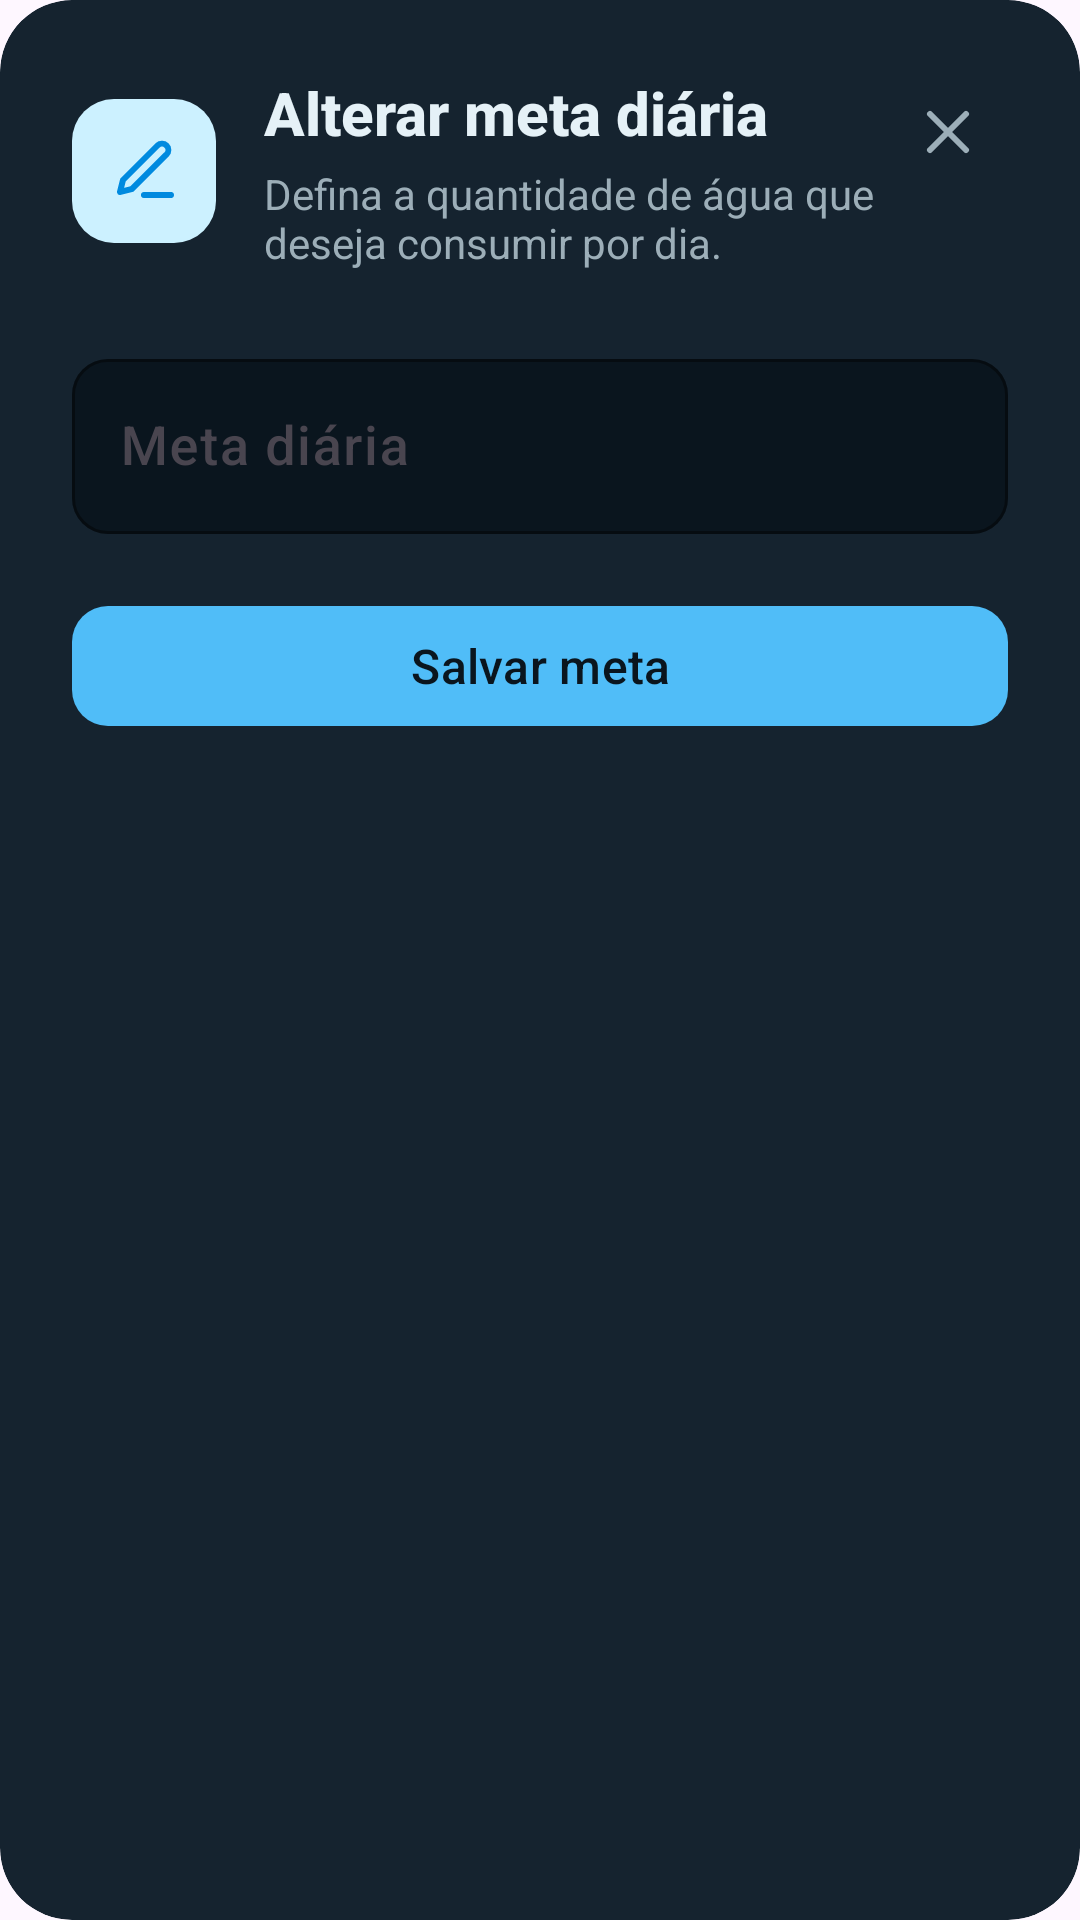

Where icons sit on this 1080*1920 app screen, as bbox=[x1, y1, x2, y2]:
edit goal: bbox=[117, 140, 174, 198]
Fechar edição da meta diária: bbox=[927, 111, 969, 153]
